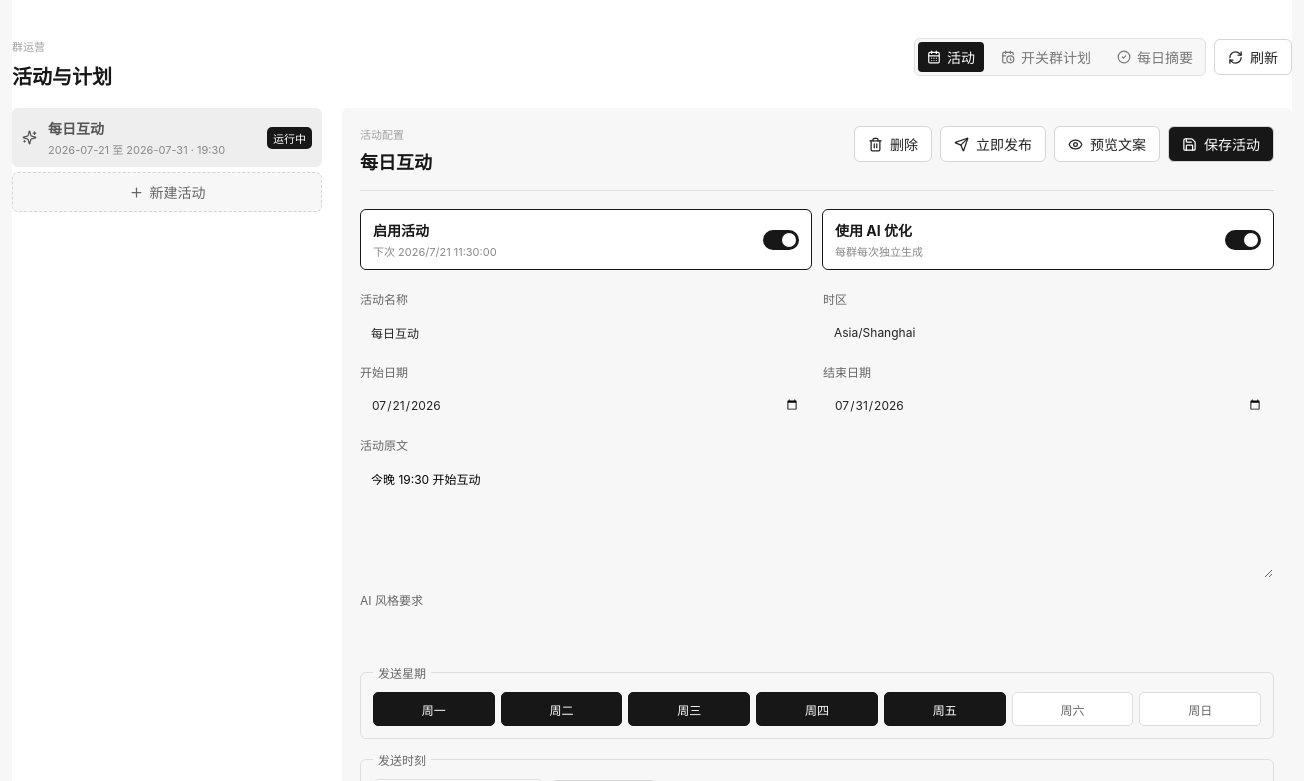
production pages retain scoped cached data › keeps activities visible when one combined refresh fails
Click the button "刷新".
click(1253, 57)  # box [1214,39,1292,75]
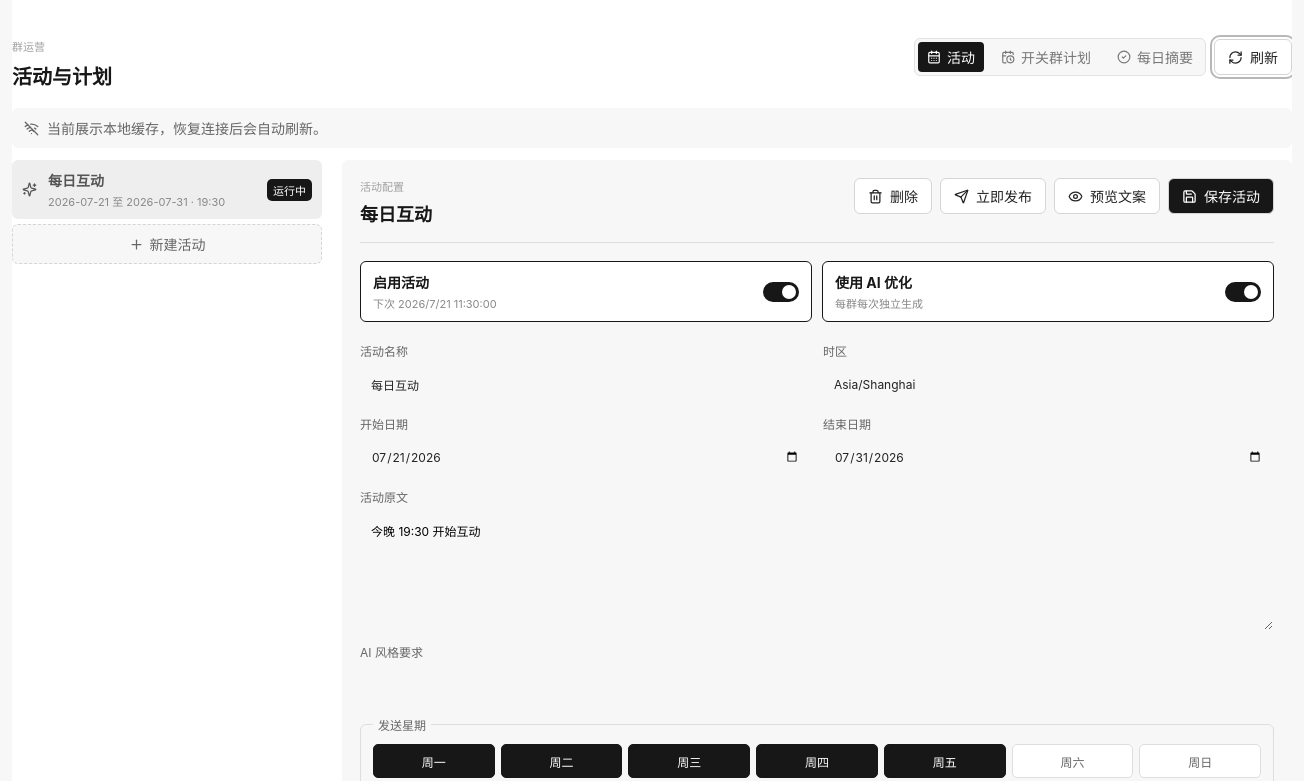
Expected: the text "每日互动" is shown, [48,172,104,189]
Expected: the text "当前展示本地缓存，恢复连接后会自动刷新。" is shown, [12,108,1292,148]
